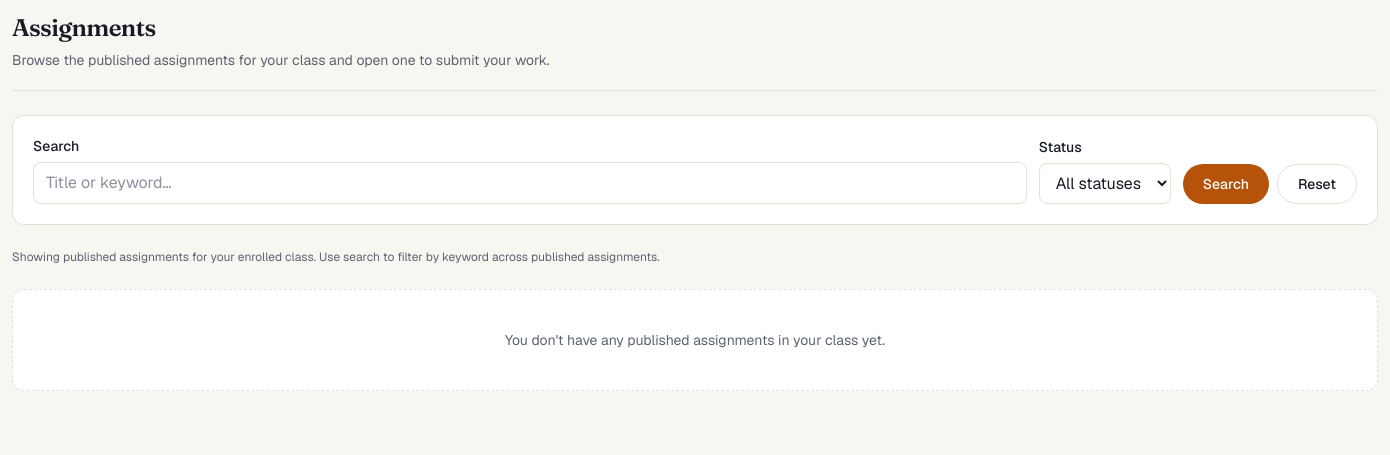
StudentAssignmentsPage › switches to search results when a term is submitted
expect the text "You don't have any published assignments in your class yet." is shown: met, box [12,289,1378,391]
Type "searched" into the search field labelled "Search" at (530, 183), box [33,162,1027,204]
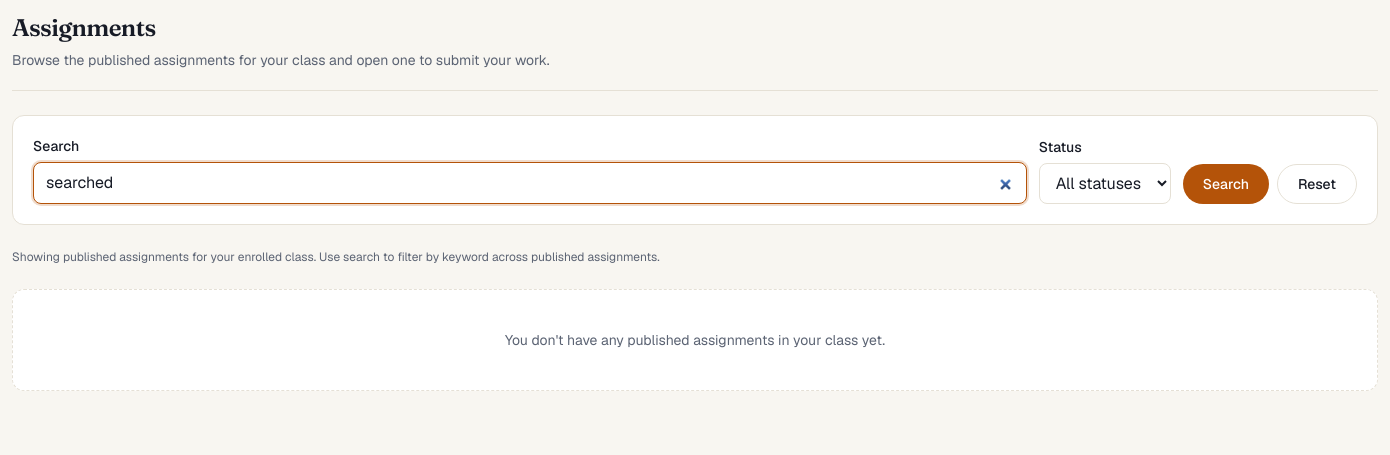
Click the button "Search" at (1226, 184), box [1183,164,1269,204]
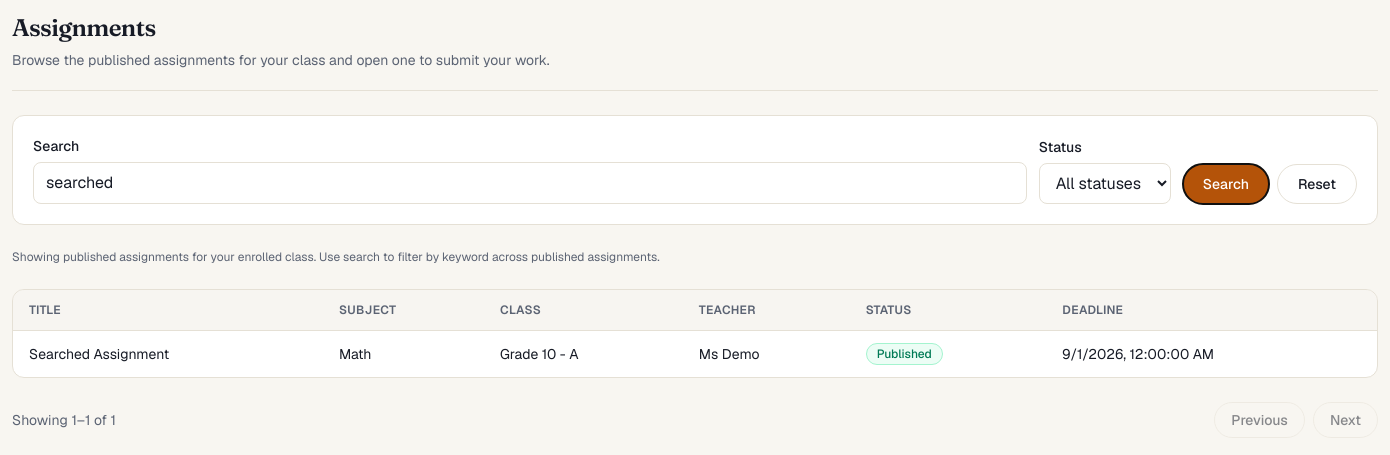
expect the link "Searched Assignment" is shown: met, box [29,345,169,363]
